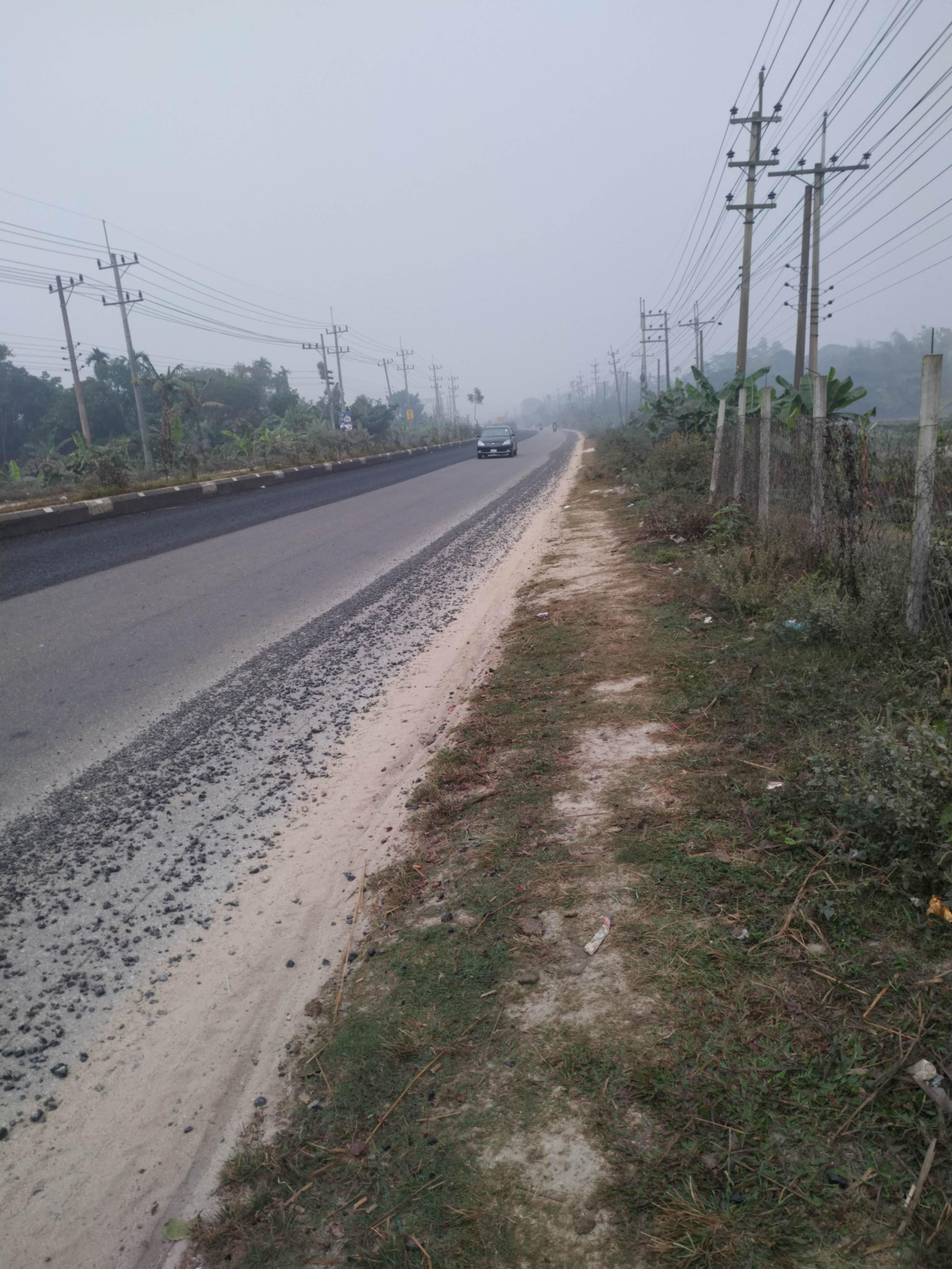Car: (463, 412, 542, 477)
